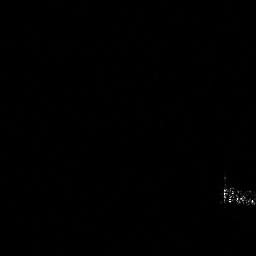ship: (218, 178, 256, 209)
